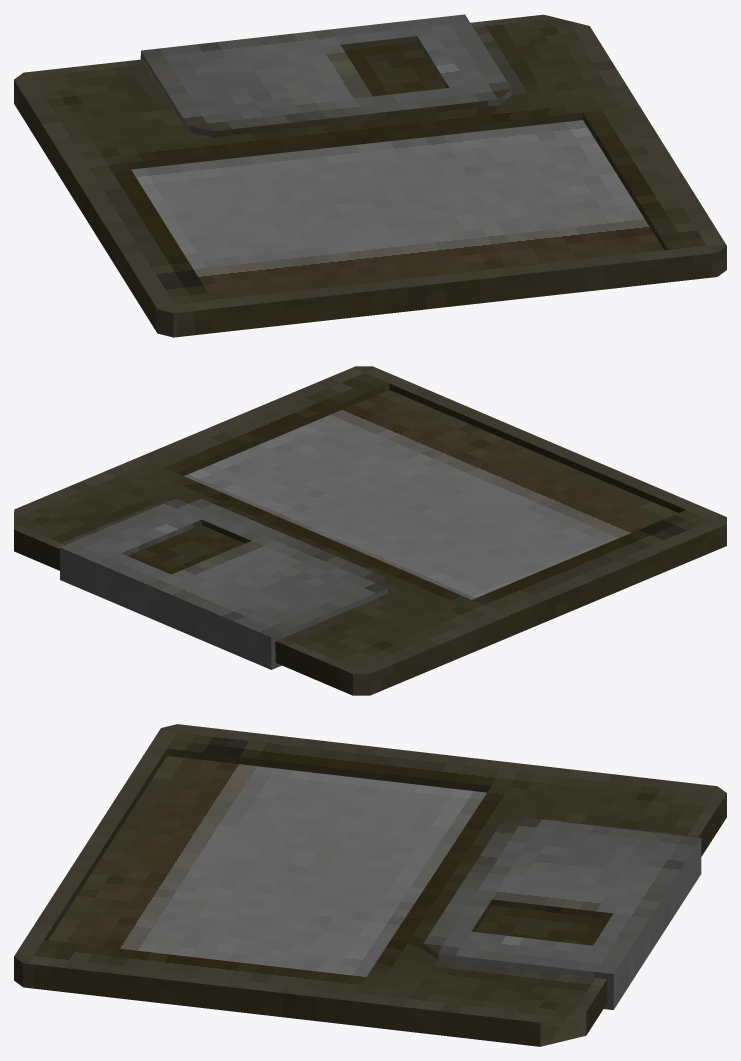
The model's file is floppy_disc_4.dae.
The picture shows the model from 3 angles, top to bottom: view 1: azimuth 30°, elevation 25°; view 2: azimuth 150°, elevation 25°; view 3: azimuth 270°, elevation 25°; orthographic projection. The views are drawn at different scales.
Parts seen in each view (by area): view 1: floppy_disc_4; view 2: floppy_disc_4; view 3: floppy_disc_4.
Part boxes in pixels (box(x1,y1,x2,y2)): floppy_disc_4: box(14, 14, 726, 337); floppy_disc_4: box(14, 366, 726, 695); floppy_disc_4: box(14, 724, 726, 1046).
Size of the model in its own units: 0.1908 by 0.1925 by 0.0108.
1 material, 1 textured.
